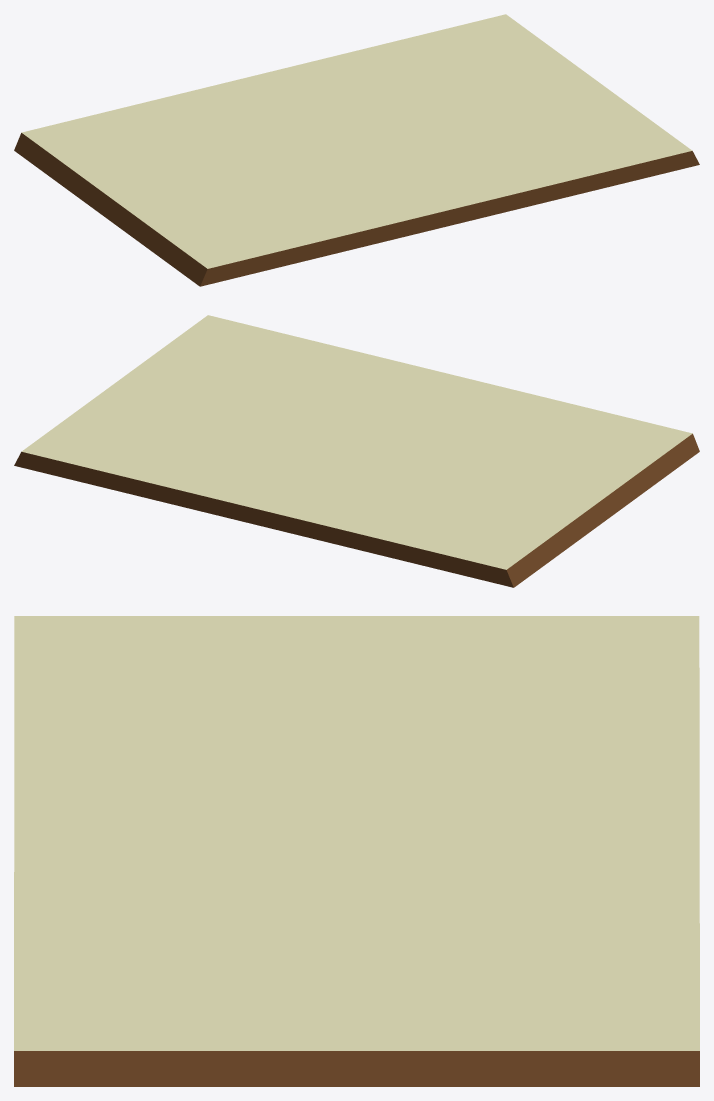
Rendered from splitLogRoofSlopeLowContent.glb.
3 renders of one model, top to bottom at view 1: azimuth 30°, elevation 25°; view 2: azimuth 150°, elevation 25°; view 3: azimuth 270°, elevation 25°, orthographic. The views are drawn at different scales.
Parts seen in each view (by area): view 1: Cylinder.001; view 2: Cylinder.001; view 3: Cylinder.001.
Part boxes in pixels (<box>): Cylinder.001: <box>14,14,699,286</box>; Cylinder.001: <box>14,315,699,587</box>; Cylinder.001: <box>14,616,699,1086</box>.
Bounding box in the file's own units: 3.09 × 0.0959 × 2.
